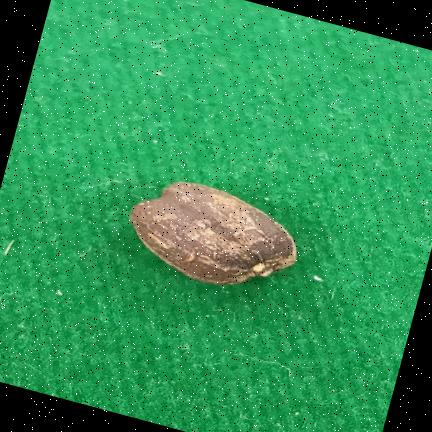husk: (130, 182, 296, 284)
